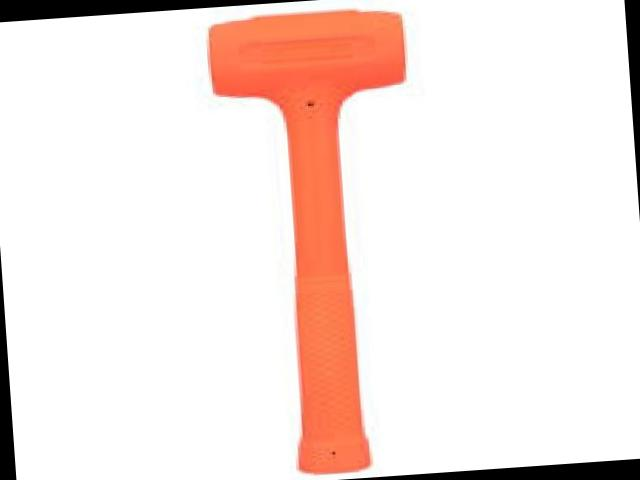hammer: (207, 3, 433, 480)
